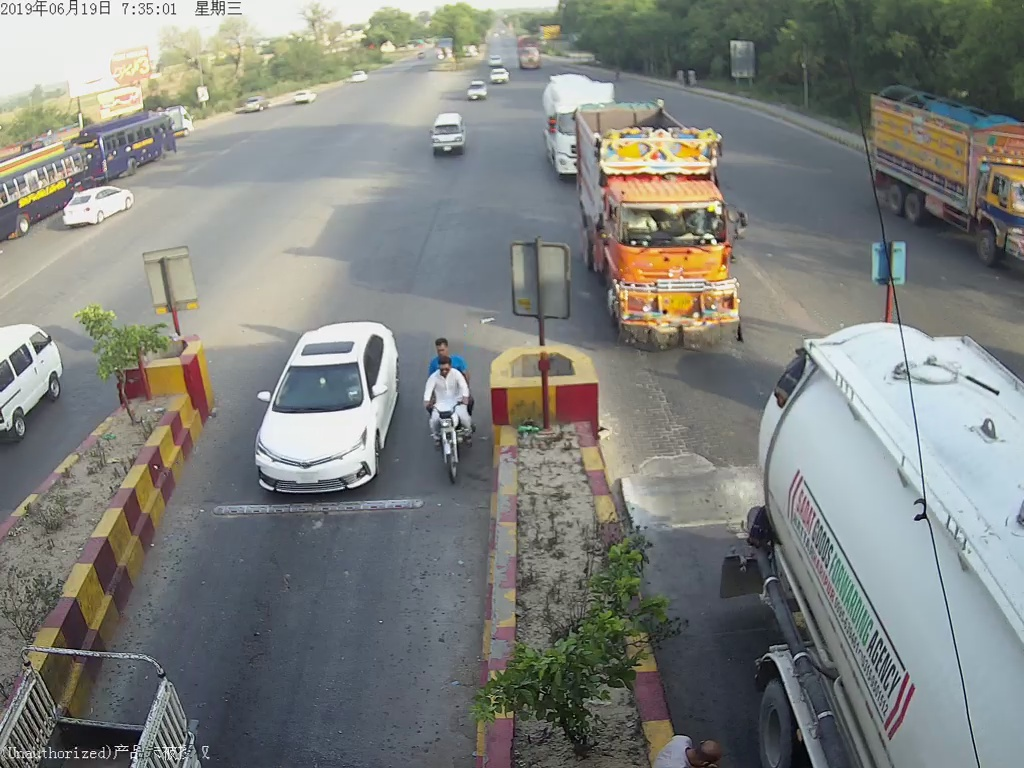Cat-1: (249, 322, 402, 483), (422, 112, 470, 156)
